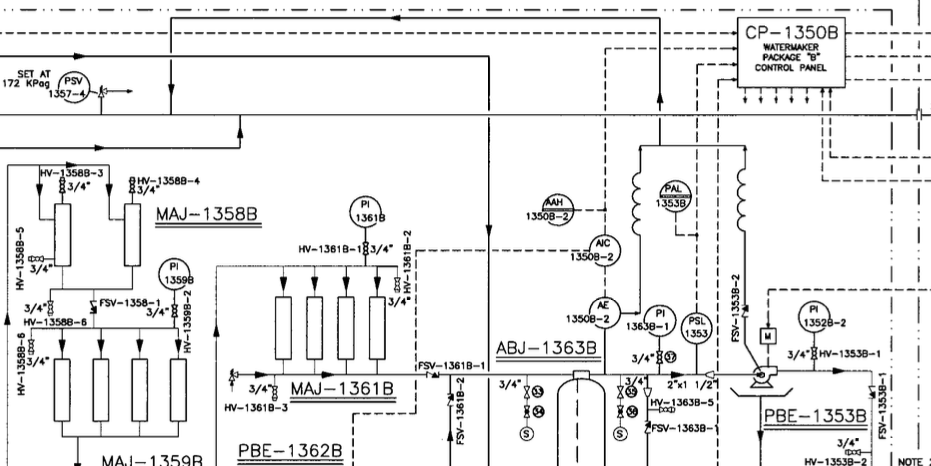Instrument-offset: (793, 293, 860, 338), (524, 184, 580, 228), (566, 231, 628, 269), (568, 292, 624, 333), (624, 302, 680, 340), (342, 191, 395, 230), (48, 69, 95, 107), (155, 253, 202, 290), (655, 178, 692, 219), (678, 309, 714, 348)
